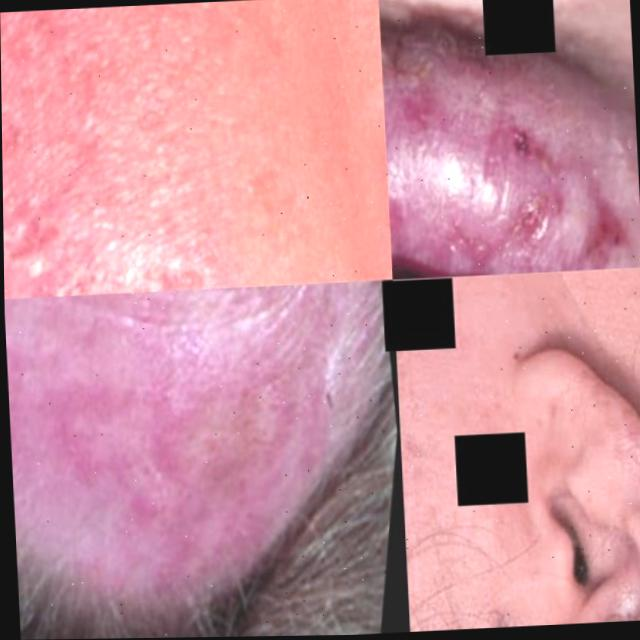lupus-detected: (4, 278, 409, 640), (0, 19, 353, 298), (377, 0, 640, 279), (557, 403, 640, 578)
